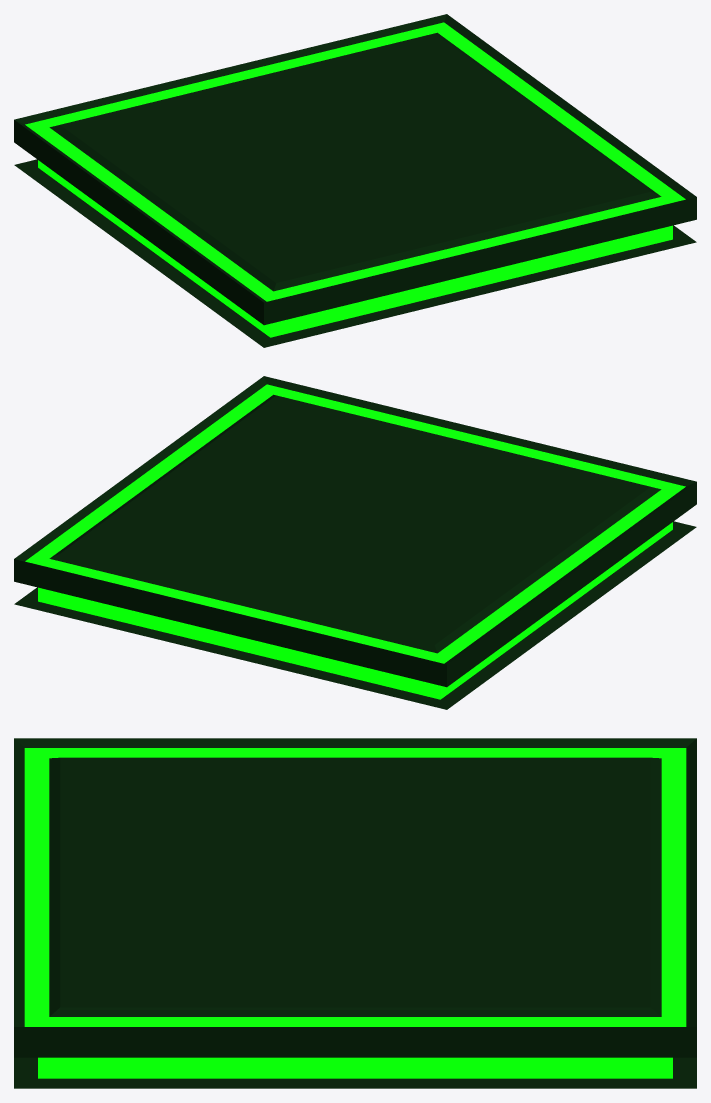
File: Tile_Green.FBX
3 renders of one model, top to bottom at view 1: azimuth 30°, elevation 25°; view 2: azimuth 150°, elevation 25°; view 3: azimuth 270°, elevation 25°, orthographic. The views are drawn at different scales.
Visible parts, largest first — view 1: Green_Tile; view 2: Green_Tile; view 3: Green_Tile.
Boxes of the visible parts, box(x1,y1,x2,y2) form: Green_Tile: box(14, 14, 696, 347); Green_Tile: box(14, 376, 696, 709); Green_Tile: box(14, 738, 696, 1088).
Size of the model in its own units: 39.37 by 3.94 by 39.37.
